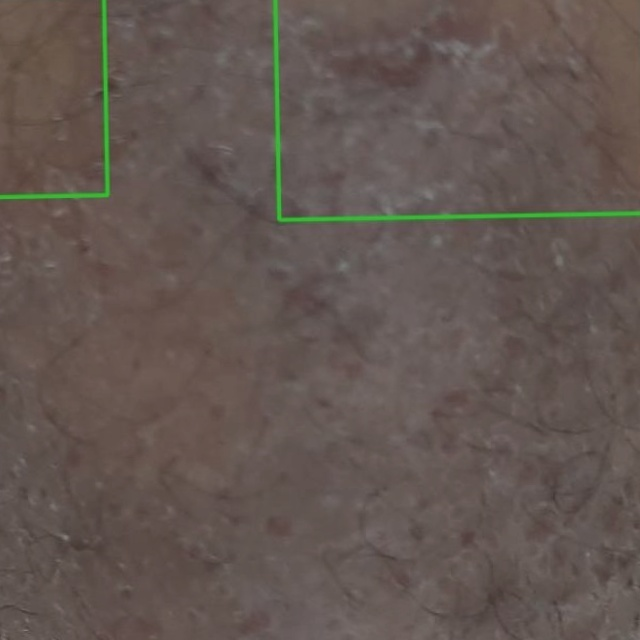Eczema: (275, 0, 639, 219), (0, 0, 107, 197)
